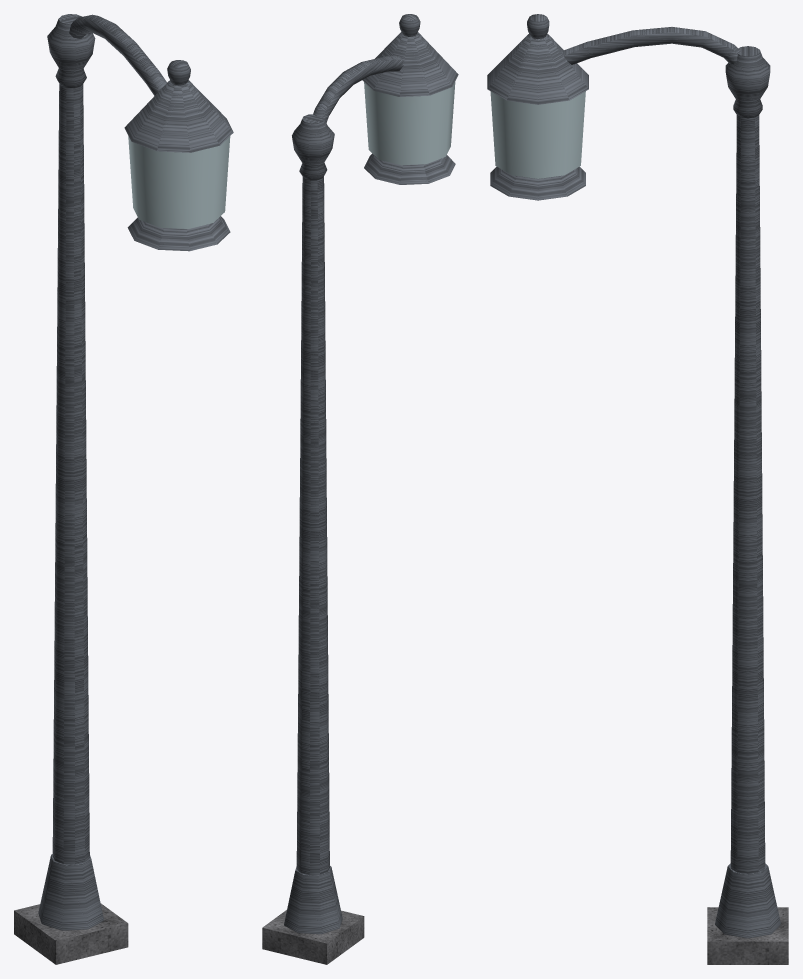
The model's file is street_lamp_1960.fbx.
3 renders of one model, left to right at view 1: azimuth 30°, elevation 25°; view 2: azimuth 150°, elevation 25°; view 3: azimuth 270°, elevation 25°, orthographic. The views are drawn at different scales.
Parts seen in each view (by area): view 1: street_lamp_1960; view 2: street_lamp_1960; view 3: street_lamp_1960.
Boxes of the visible parts, x1,y1,x2,y2 form: street_lamp_1960: (14,14,233,964); street_lamp_1960: (262,14,458,964); street_lamp_1960: (487,14,788,964).
Size of the model in its own units: 50 by 481 by 141.
